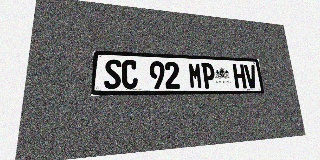2: (165, 61, 180, 89)
9: (150, 61, 165, 89)
C: (122, 60, 138, 89)
H: (232, 64, 247, 88)
M: (188, 62, 203, 89)
P: (201, 63, 216, 88)
S: (104, 59, 121, 89)
V: (244, 65, 258, 88)
